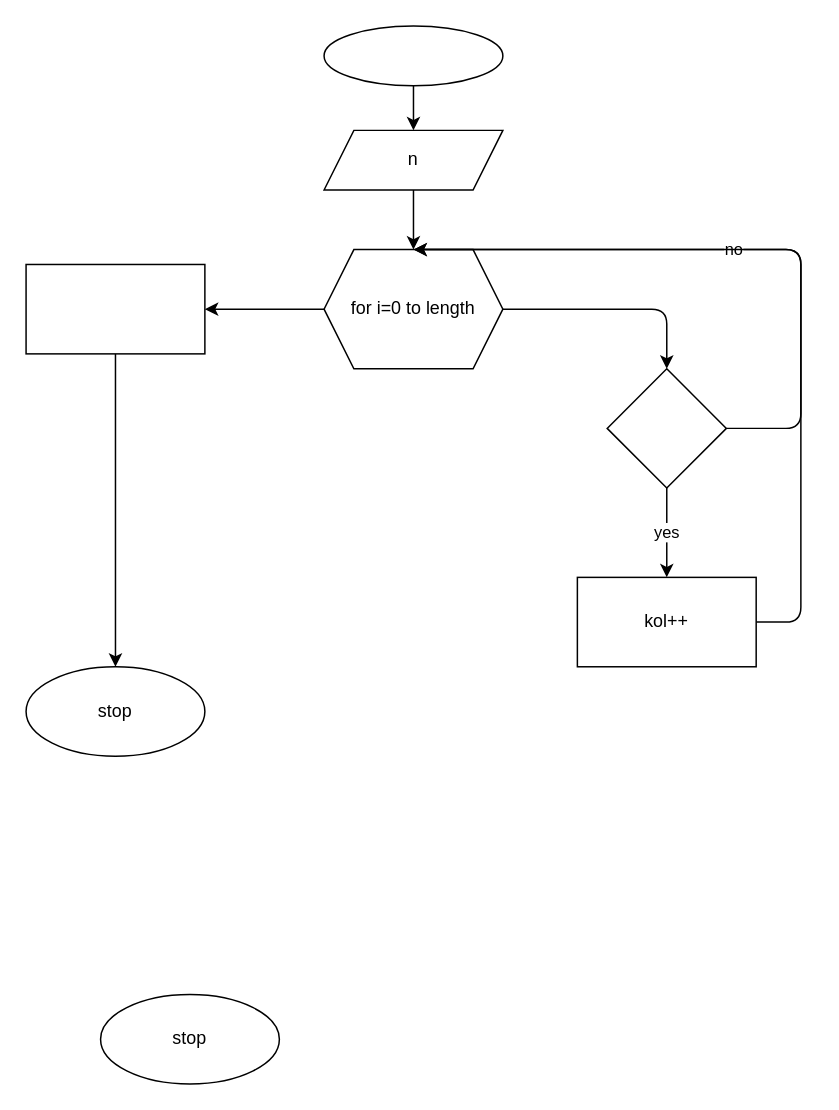
Some shapes in this 839 by 1110 pixel diagram are drawn without their labels. The centre of each missing label's shape, as x and y in pixels:
if array[i]>0: (x=666, y=427)
start: (x=413, y=55)
wrileLine(kol): (x=115, y=308)
